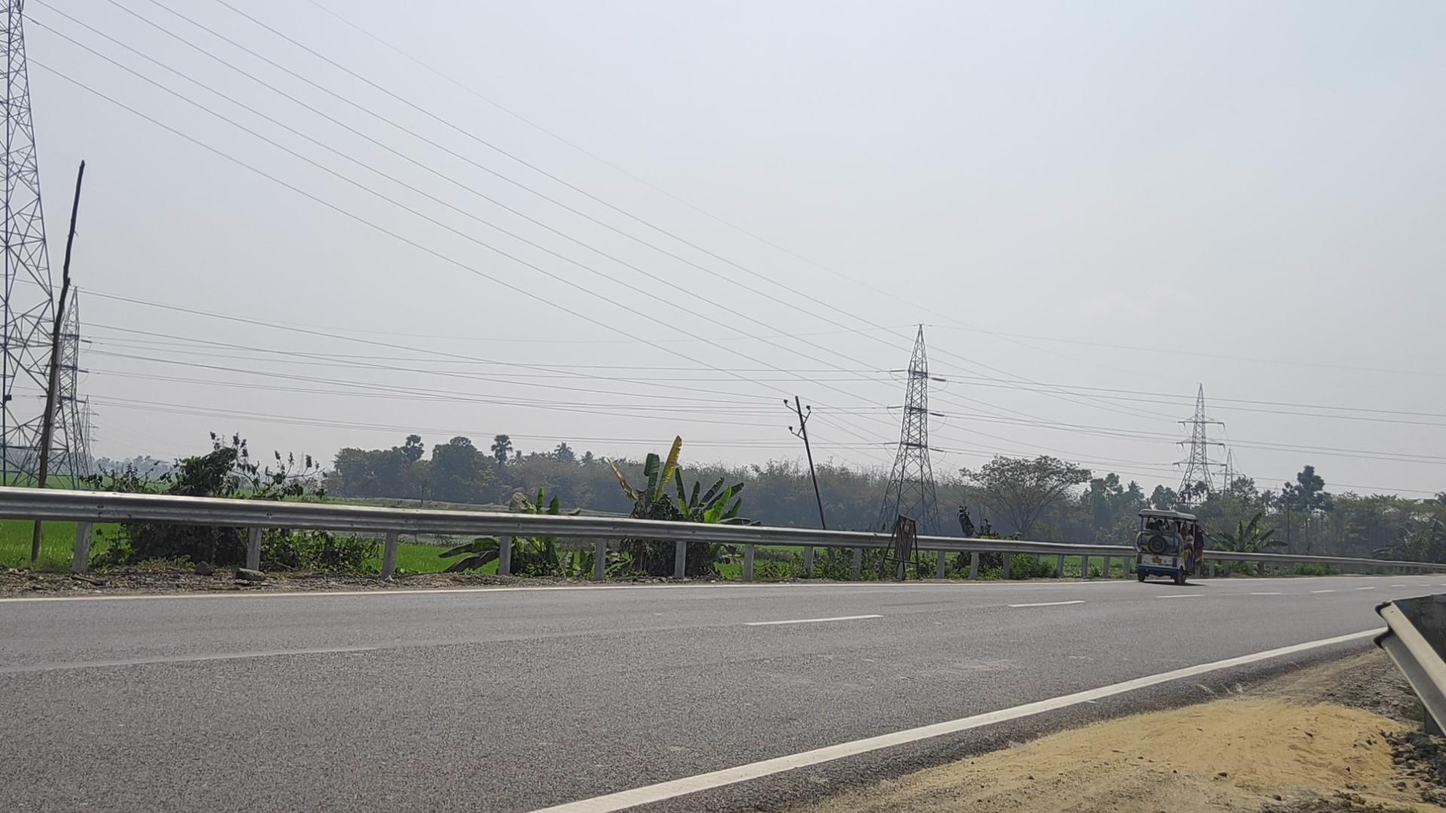Auto: (1135, 509, 1204, 586)
